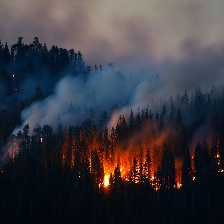fire: (95, 167, 126, 192), (171, 175, 186, 192)
smoke: (1, 1, 224, 122)
